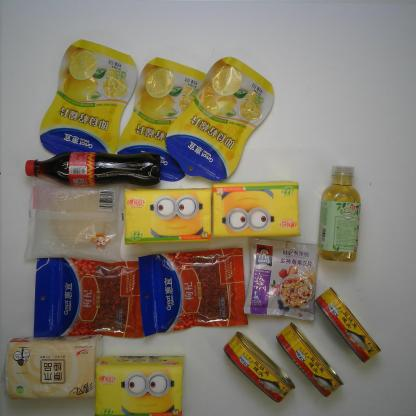Canned Food: (316, 287, 382, 364), (278, 322, 342, 401), (223, 337, 296, 402)
Dessert: (23, 178, 126, 266)
Dried Fruit: (164, 58, 274, 180), (37, 38, 140, 164), (116, 56, 206, 181), (138, 249, 252, 336), (32, 254, 146, 339)
Drink: (24, 150, 161, 187), (317, 163, 360, 263)
Instant Drink: (242, 233, 323, 321)
Tissue: (4, 335, 99, 400), (92, 355, 184, 416), (121, 184, 213, 244), (212, 182, 302, 237)
